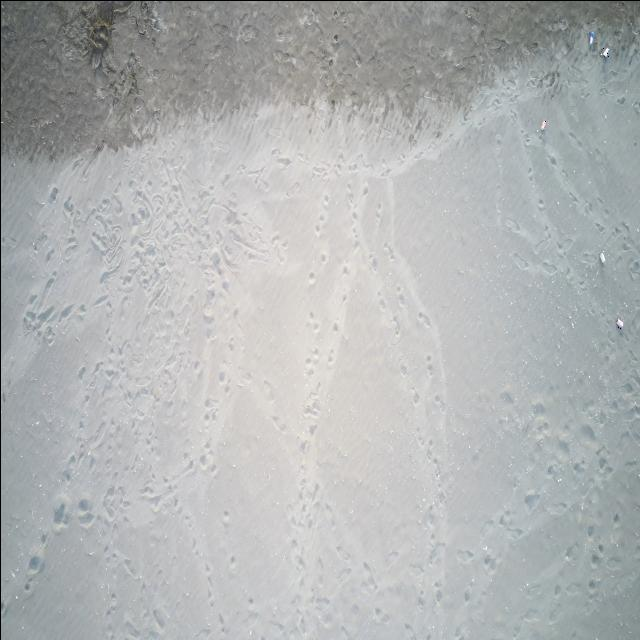Garbage: (587, 31, 595, 45), (600, 47, 609, 56), (615, 318, 623, 328), (540, 120, 547, 129), (600, 252, 604, 263)
